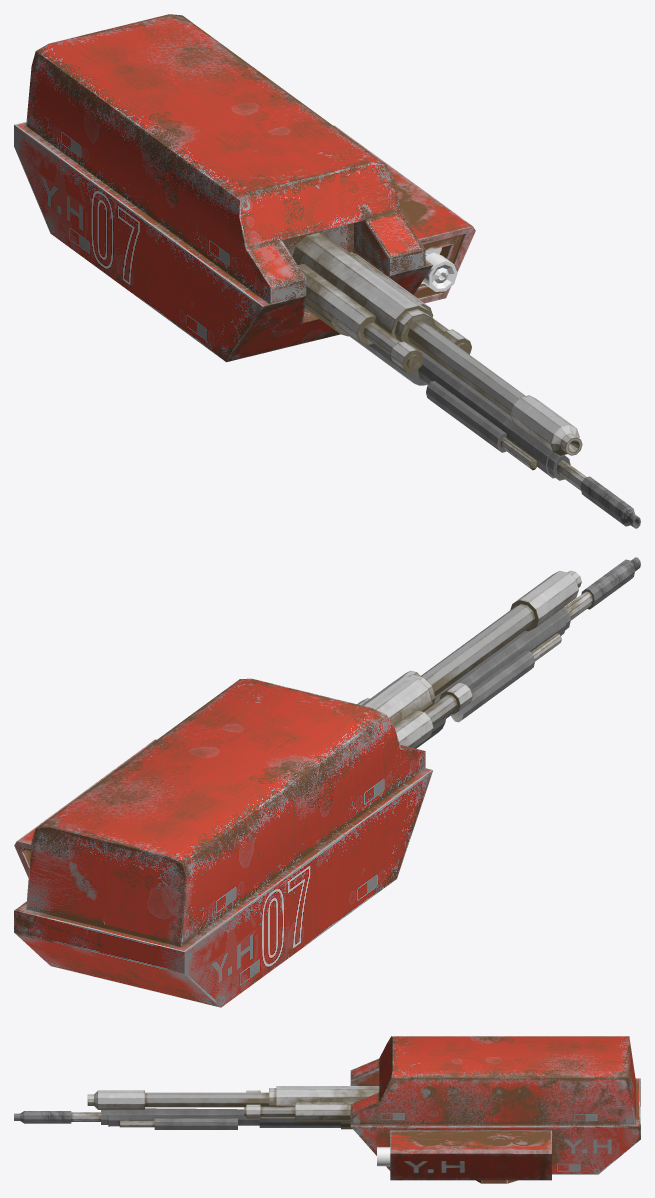
File: Turret Head.fbx
3 renders of one model, top to bottom at view 1: azimuth 30°, elevation 25°; view 2: azimuth 150°, elevation 25°; view 3: azimuth 270°, elevation 25°, orthographic. The views are drawn at different scales.
Visible parts, largest first — view 1: Box002, Cylinder002, Object013, Object015, Object012; view 2: Box002, Cylinder002, Object013, Object012, Object015; view 3: Box002, Object015, Cylinder002, Object013, Object012.
Boxes of the visible parts, left/top/right/bottom form: Box002: left=14, top=14, right=432, bottom=362; Cylinder002: left=292, top=232, right=582, bottom=455; Object013: left=339, top=327, right=640, bottom=528; Object015: left=333, top=125, right=475, bottom=303; Object012: left=500, top=437, right=586, bottom=490; Box002: left=14, top=678, right=433, bottom=1007; Cylinder002: left=357, top=570, right=581, bottom=748; Object013: left=415, top=557, right=640, bottom=748; Object012: left=531, top=591, right=592, bottom=661; Object015: left=14, top=739, right=156, bottom=877; Box002: left=350, top=1036, right=640, bottom=1174; Object015: left=377, top=1130, right=551, bottom=1180; Cylinder002: left=87, top=1086, right=379, bottom=1129; Object013: left=14, top=1108, right=340, bottom=1129; Object012: left=71, top=1112, right=154, bottom=1127.
Bounding box in the file's own units: 85.75 × 69.32 × 323.
